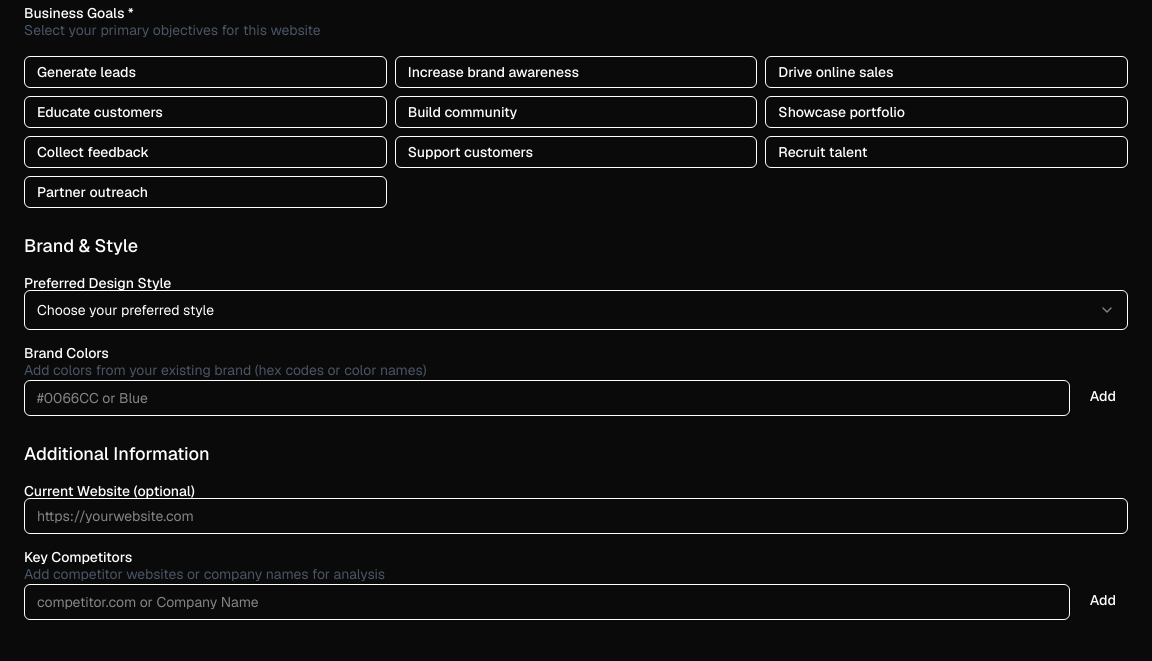
Test case: BusinessContextAnalyzer › Form Interaction › adds and removes competitors
The width and height of the screenshot is (1152, 661).
(page scrolled)
In the field with placeholder "competitor.com or Company Name": {"x": 547, "y": 602} [24, 584, 1070, 620], type "competitor.com"
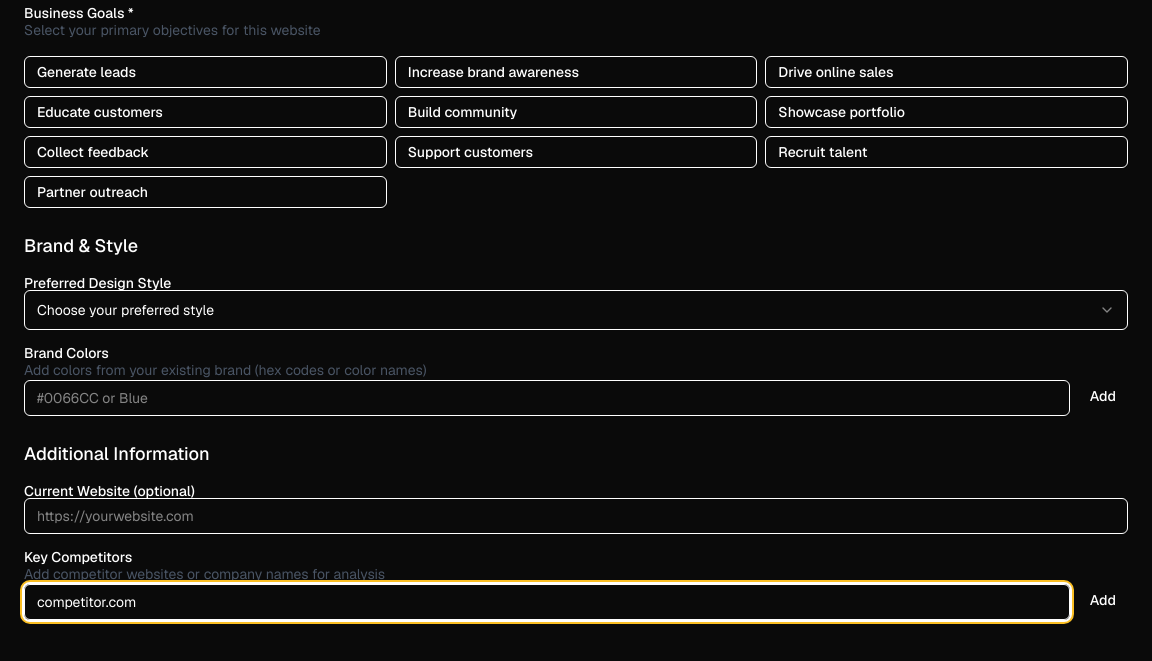
Click the 2nd button "Add": {"x": 1103, "y": 600} [1078, 584, 1128, 616]
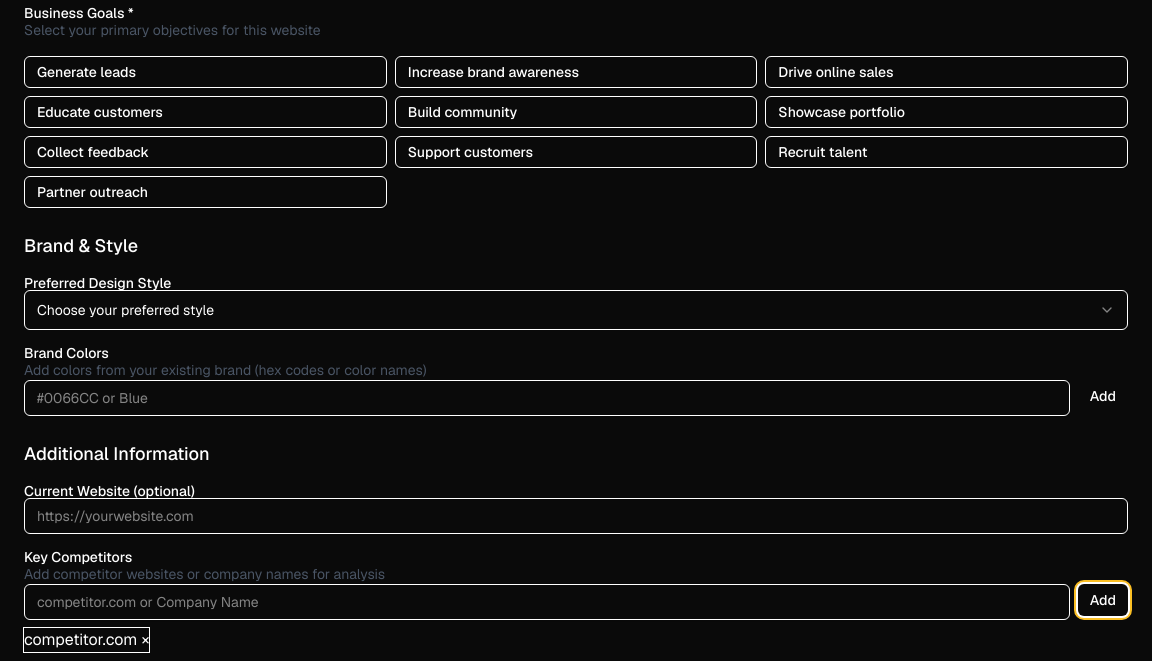
Result: the text "competitor.com" is shown at [24, 629, 137, 650]
